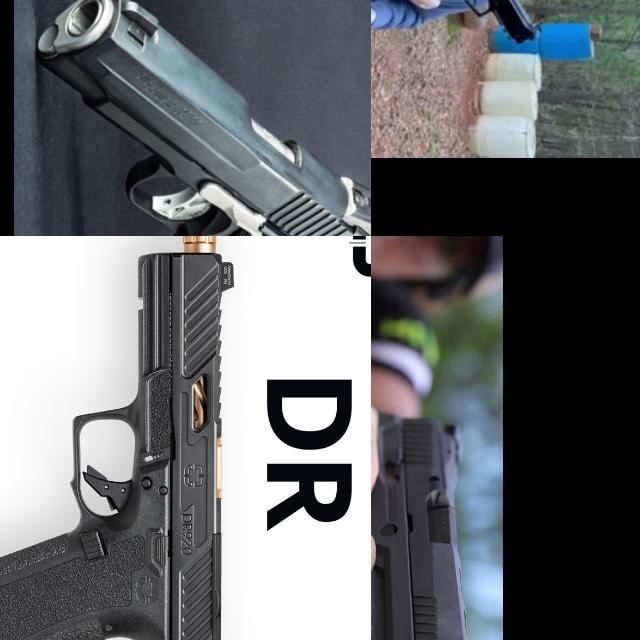handgun: (0, 236, 241, 640), (30, 0, 371, 236), (371, 406, 491, 640), (444, 0, 545, 61)
